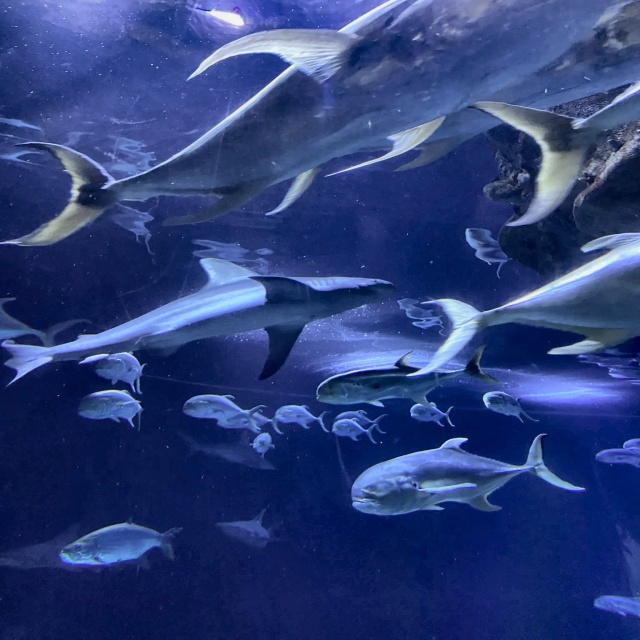fish: (0, 0, 610, 249), (406, 233, 639, 377), (467, 81, 639, 226), (350, 434, 583, 516), (316, 344, 503, 408), (58, 517, 183, 567), (0, 296, 91, 348), (184, 394, 268, 430), (78, 390, 143, 431), (95, 351, 146, 394), (482, 392, 538, 423), (217, 410, 283, 433), (275, 405, 329, 432), (592, 593, 639, 621), (411, 402, 455, 429), (332, 418, 378, 443), (595, 447, 637, 466), (335, 411, 388, 426), (250, 432, 274, 459)
shark: (0, 258, 394, 388), (214, 508, 278, 550)
